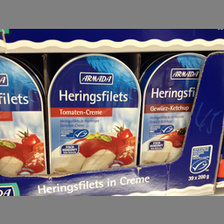fish: (47, 54, 140, 174), (140, 54, 205, 168), (1, 55, 48, 176)
